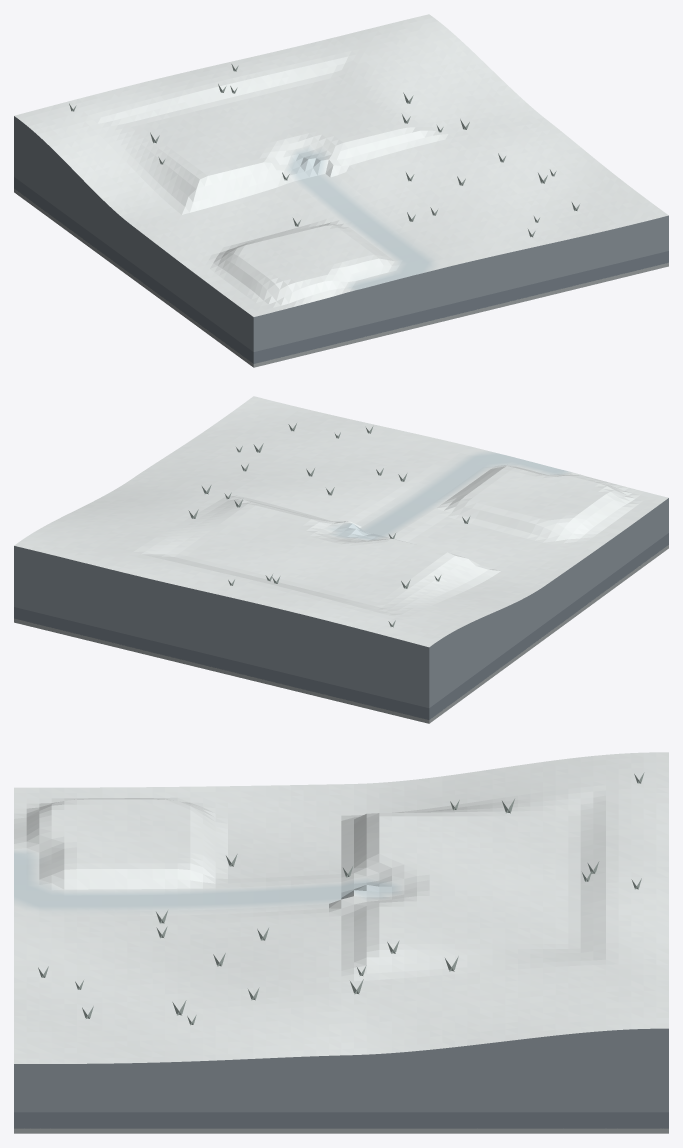
Rendered from J076_proc.glb.
3 renders of one model, top to bottom at view 1: azimuth 30°, elevation 25°; view 2: azimuth 150°, elevation 25°; view 3: azimuth 270°, elevation 25°, orthographic. The views are drawn at different scales.
Parts seen in each view (by area): view 1: proc_ground, proc_skirt, proc_grass; view 2: proc_ground, proc_skirt, proc_grass; view 3: proc_ground, proc_skirt, proc_grass.
Part boxes in pixels (x1,y1,x2,y2): proc_ground: [14, 14, 668, 316]; proc_skirt: [14, 116, 668, 367]; proc_grass: [69, 64, 579, 237]; proc_ground: [14, 396, 668, 647]; proc_skirt: [14, 498, 668, 723]; proc_grass: [188, 423, 470, 627]; proc_ground: [14, 752, 668, 1063]; proc_skirt: [14, 1028, 668, 1133]; proc_grass: [38, 772, 644, 1025].
Bounding box in the file's own units: 8 × 1.58 × 8.
